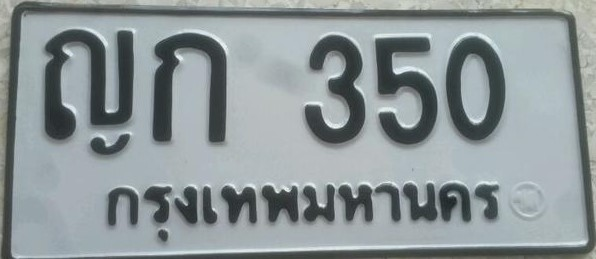txt01: (147, 28, 230, 145)
txt10: (40, 26, 138, 157)
